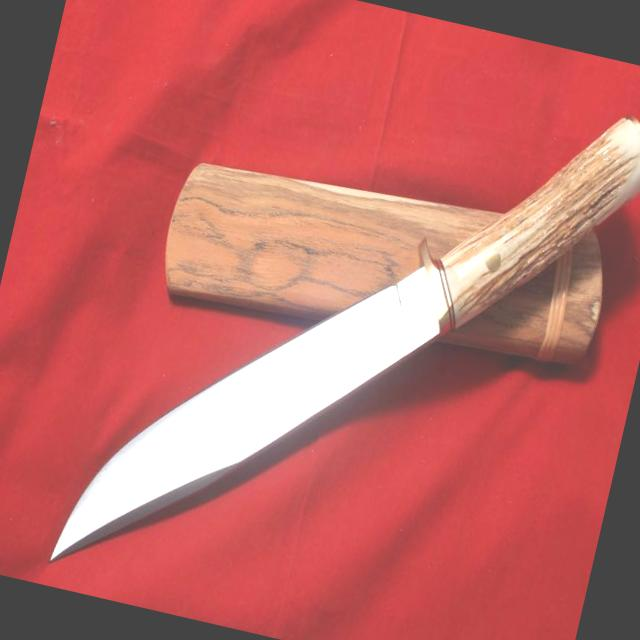short sword: (32, 10, 640, 640)
